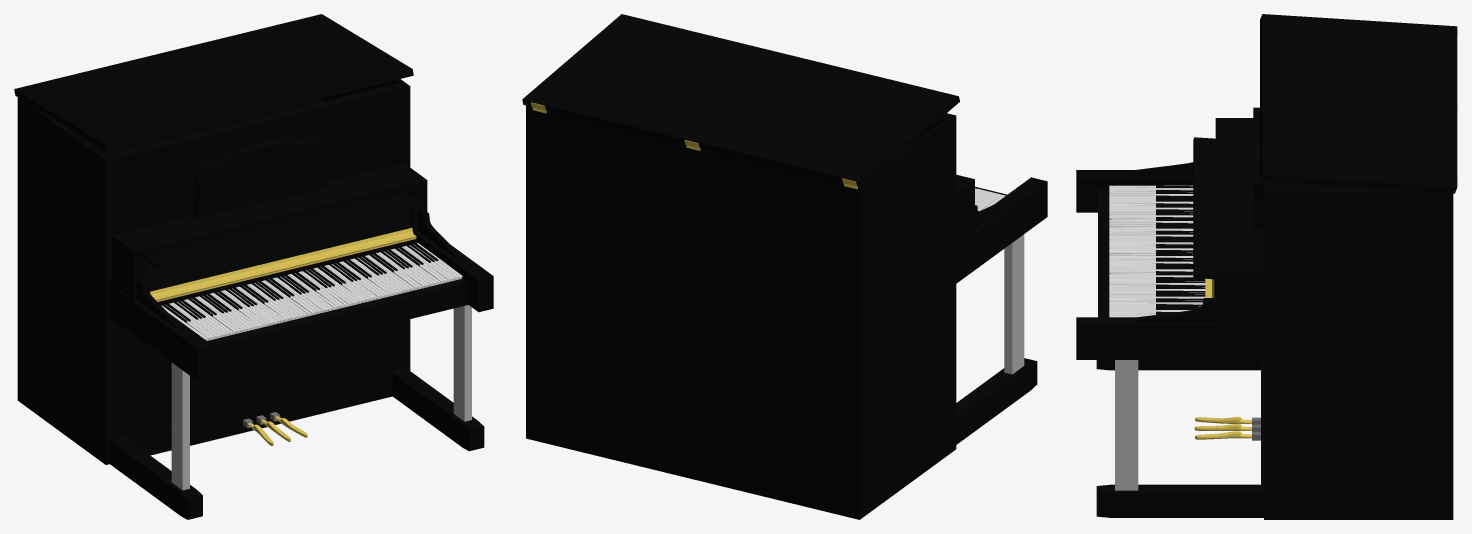
The model's file is sh-bsby-piano.glb.
3 views of the same model, side by side, from view 1: azimuth 30°, elevation 25°; view 2: azimuth 150°, elevation 25°; view 3: azimuth 270°, elevation 25° (orthographic). The views are drawn at different scales.
Visible parts, largest first — view 1: Cube.005_Cube.004, Cube.002, Cube.013, Cube.009; view 2: Cube.005_Cube.004, Cube.013; view 3: Cube.005_Cube.004, Cube.002, Cube.013, Cube.009.
Part boxes in pixels (bbox=[...]): Cube.005_Cube.004: bbox=[14, 14, 493, 519]; Cube.002: bbox=[161, 242, 462, 340]; Cube.013: bbox=[171, 305, 471, 490]; Cube.009: bbox=[150, 228, 416, 445]; Cube.005_Cube.004: bbox=[522, 14, 1047, 519]; Cube.013: bbox=[1004, 234, 1024, 374]; Cube.005_Cube.004: bbox=[1076, 14, 1457, 519]; Cube.002: bbox=[1109, 185, 1205, 317]; Cube.013: bbox=[1115, 360, 1138, 490]; Cube.009: bbox=[1194, 29, 1457, 439].
Size of the model in its own units: 1 by 1 by 1.
